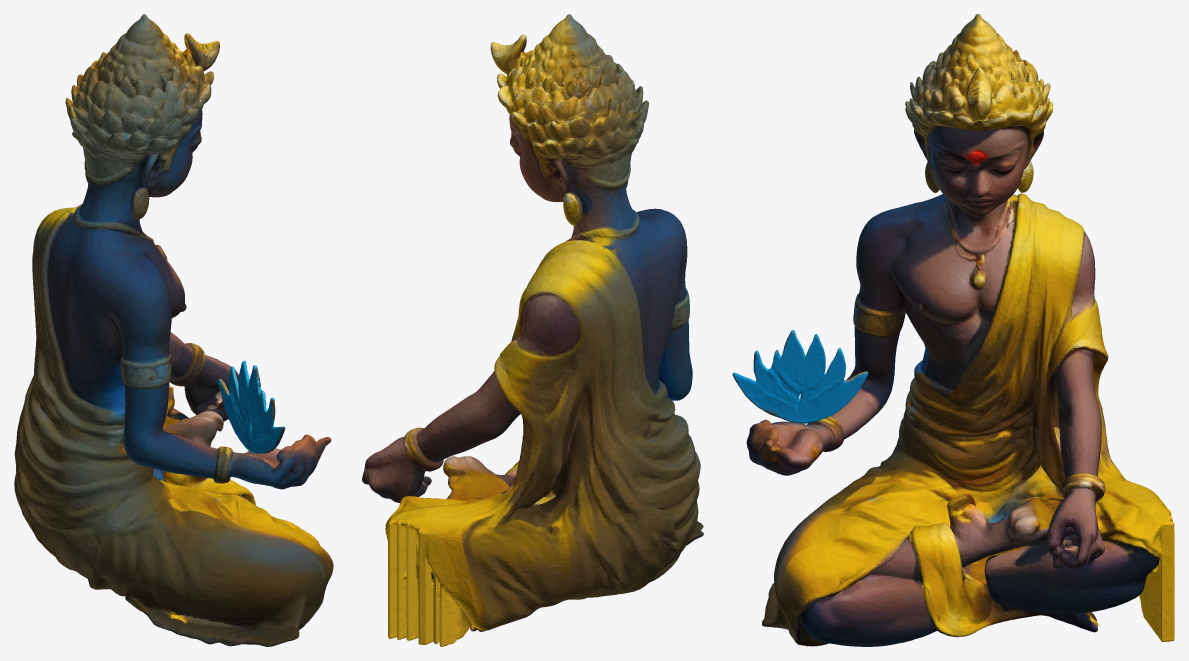
File: modelo5.glb
The picture shows the model from 3 angles, left to right: view 1: azimuth 30°, elevation 25°; view 2: azimuth 150°, elevation 25°; view 3: azimuth 270°, elevation 25°; orthographic projection. The views are drawn at different scales.
Parts seen in each view (by area): view 1: tripo_node_f378ad35-d2ac-4ef5-b4f2-00202ca7e781; view 2: tripo_node_f378ad35-d2ac-4ef5-b4f2-00202ca7e781; view 3: tripo_node_f378ad35-d2ac-4ef5-b4f2-00202ca7e781.
Boxes of the visible parts, x1,y1,x2,y2 form: tripo_node_f378ad35-d2ac-4ef5-b4f2-00202ca7e781: [14, 14, 333, 646]; tripo_node_f378ad35-d2ac-4ef5-b4f2-00202ca7e781: [362, 14, 703, 646]; tripo_node_f378ad35-d2ac-4ef5-b4f2-00202ca7e781: [732, 14, 1174, 646].
Size of the model in its own units: 0.4719 by 1 by 0.6571.
1 material, 1 textured.
